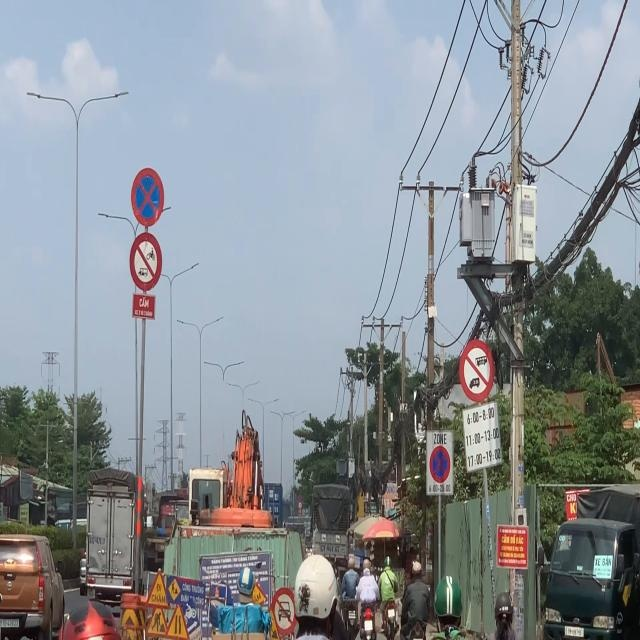bien_cam: (131, 167, 164, 227), (270, 587, 298, 637), (145, 568, 171, 610), (166, 601, 190, 640), (146, 600, 170, 638), (430, 446, 450, 483)
